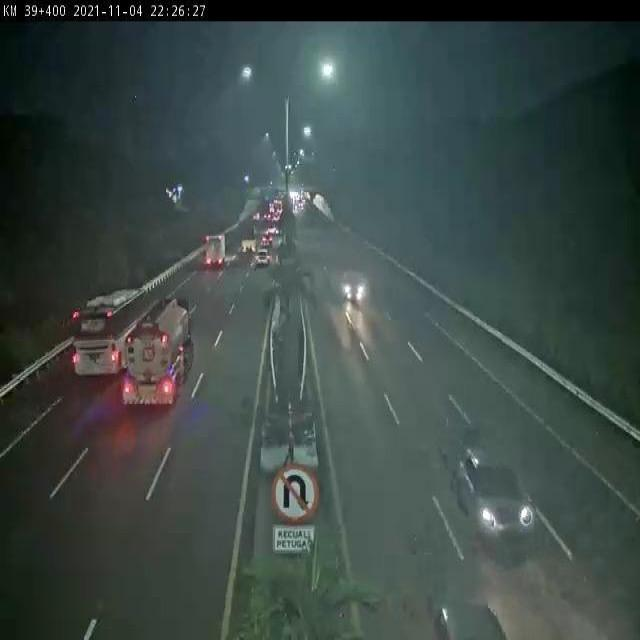bus-l-: (74, 288, 147, 375)
car: (458, 447, 537, 542), (437, 601, 509, 640), (342, 267, 366, 301), (256, 249, 270, 264)
truck-l-: (205, 235, 226, 265)
truck-m-: (242, 228, 256, 252)
truck-xl-: (125, 296, 193, 405)
